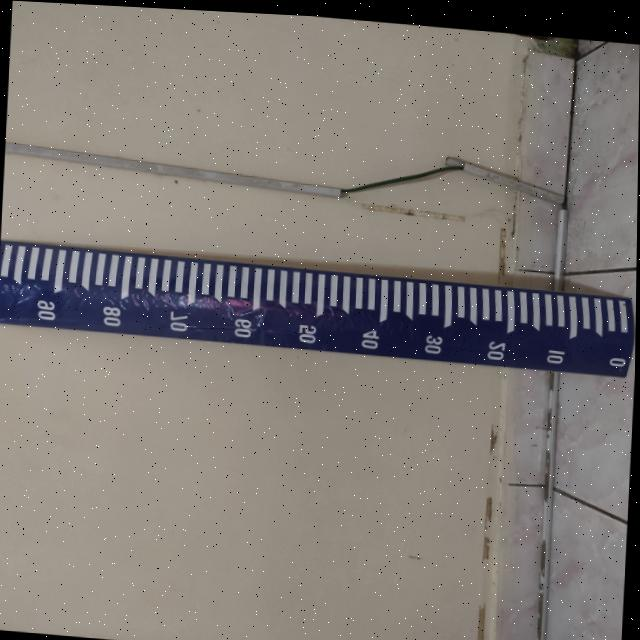water-meter: (0, 231, 637, 388)
